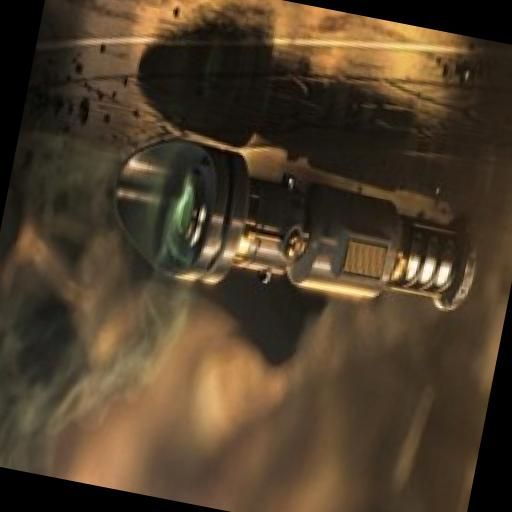lightsaber: (100, 128, 493, 334)
